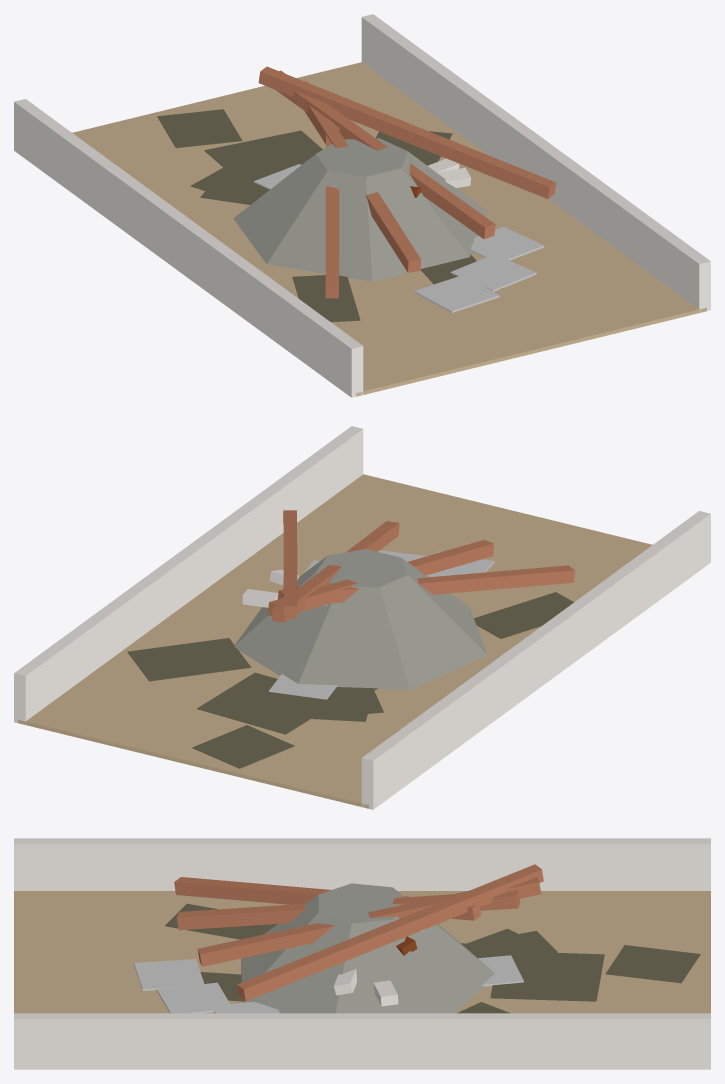
Rendered from SM_Solar_v2_Vigas_LOD0.fbx.
3 views of the same model, one above another, from view 1: azimuth 30°, elevation 25°; view 2: azimuth 150°, elevation 25°; view 3: azimuth 270°, elevation 25° (orthographic). The views are drawn at different scales.
Visible parts, largest first — view 1: SM_sagunto_vivo_v7_LOD0; view 2: SM_sagunto_vivo_v7_LOD0; view 3: SM_sagunto_vivo_v7_LOD0.
Part boxes in pixels (x1,y1,x2,y2): SM_sagunto_vivo_v7_LOD0: (14,14,710,397); SM_sagunto_vivo_v7_LOD0: (14,426,710,809); SM_sagunto_vivo_v7_LOD0: (14,838,710,1069).
Bounding box in the file's own units: 6.14 × 1.67 × 10.
